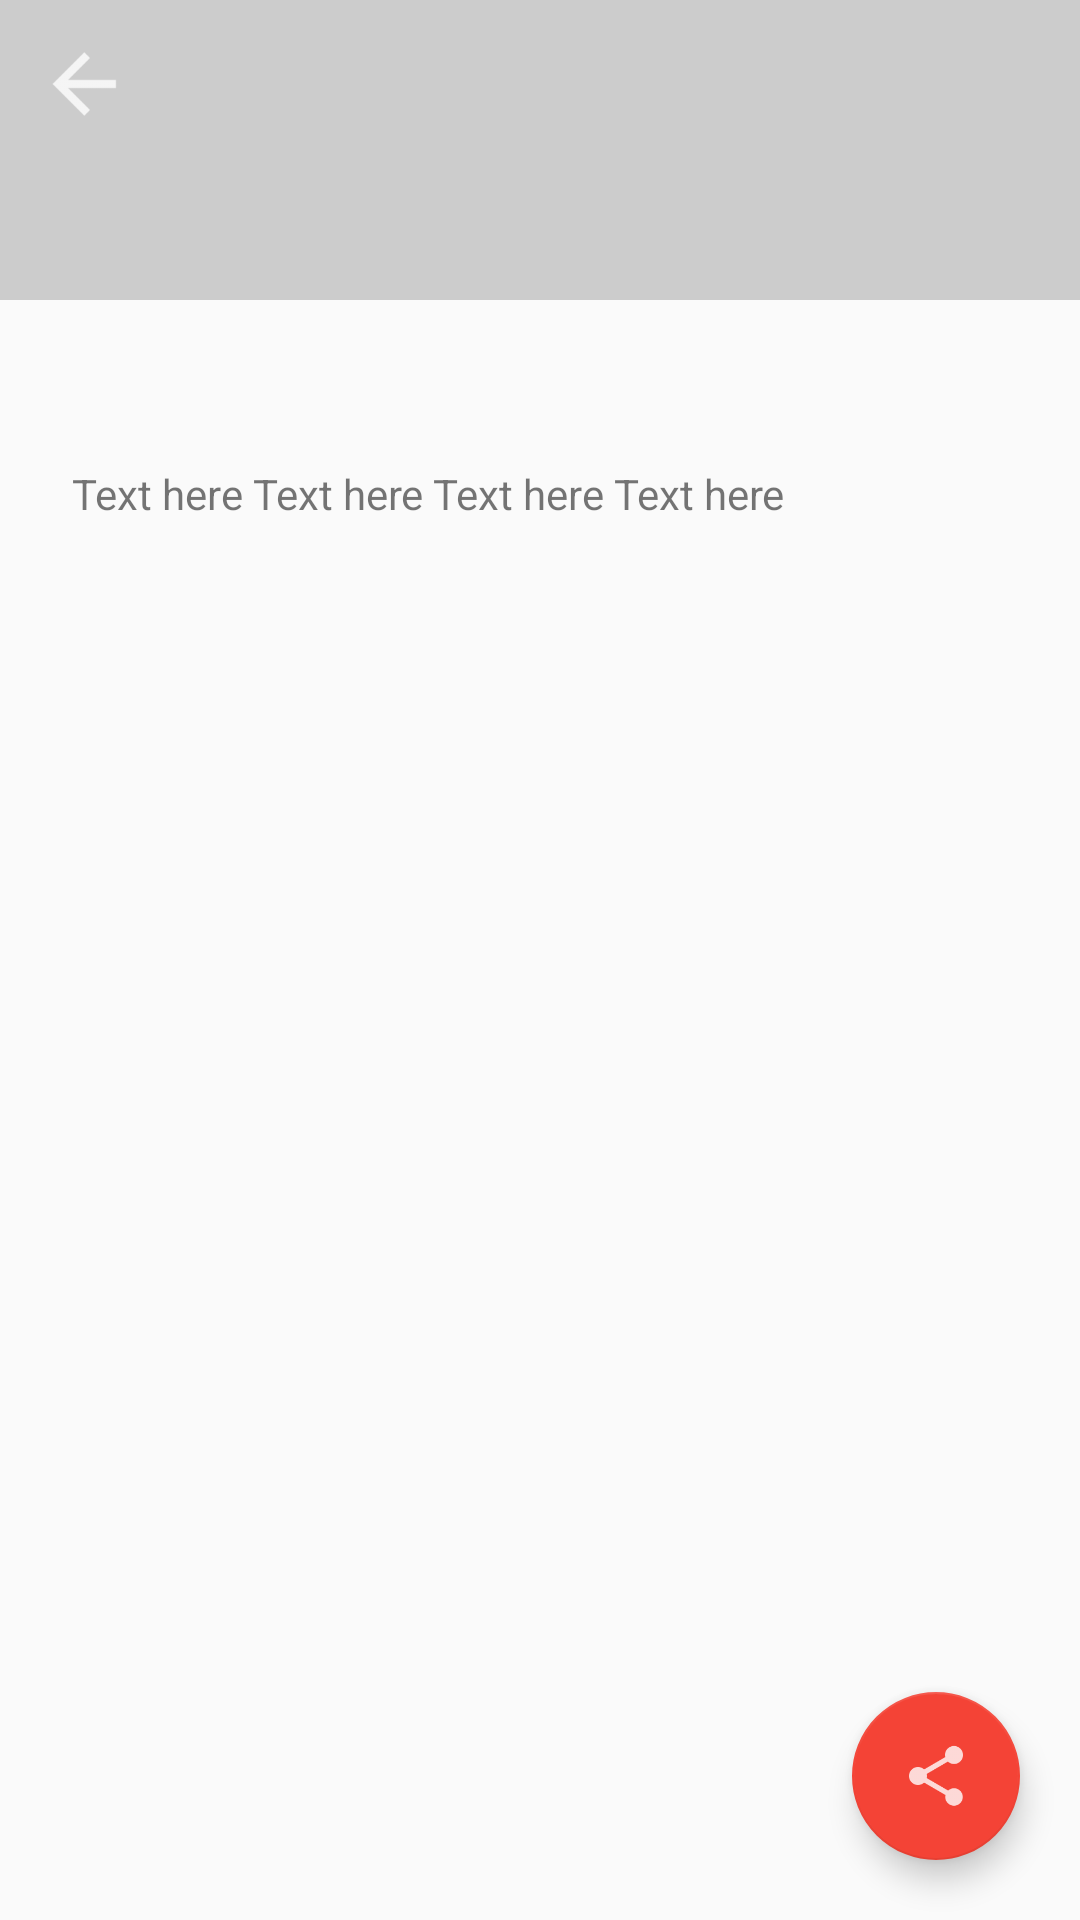

Icon bounding boxes for this 1080 x 1920 phone screenshot, format (x1, y1, x2, y2):
share: (852, 1692, 1020, 1860)
